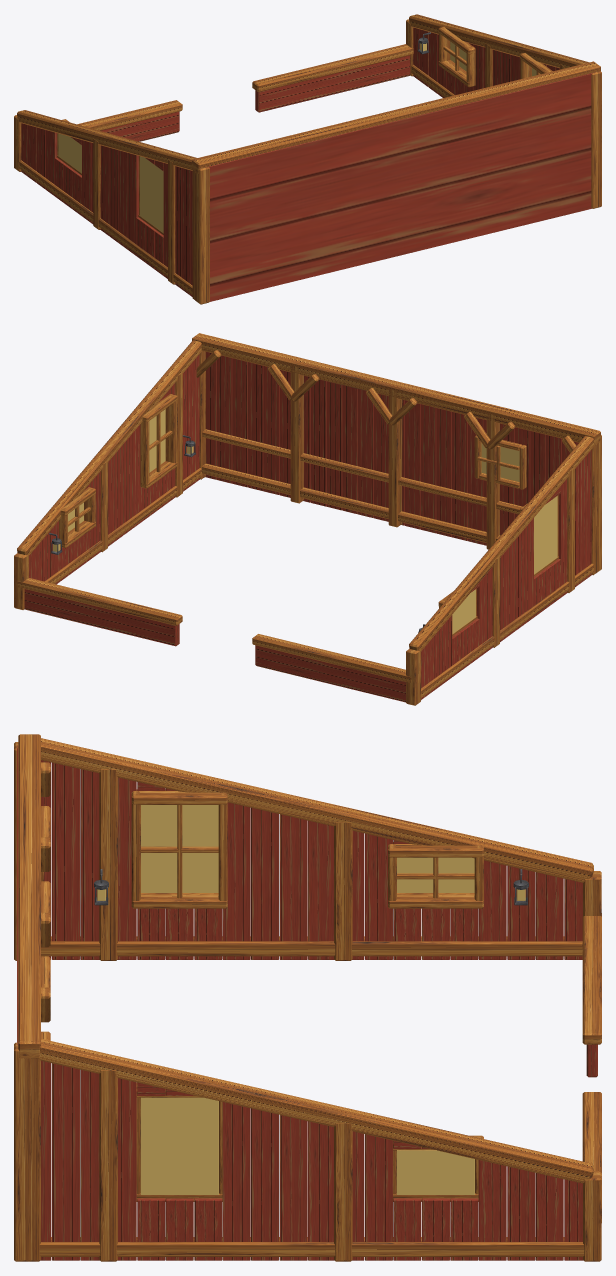
File: CoopCozy_Architecture.fbx
3 views of the same model, one above another, from view 1: azimuth 30°, elevation 25°; view 2: azimuth 150°, elevation 25°; view 3: azimuth 270°, elevation 25° (orthographic). The views are drawn at different scales.
Parts seen in each view (by area): view 1: CoopCozy_Architecture; view 2: CoopCozy_Architecture; view 3: CoopCozy_Architecture.
Boxes of the visible parts, x1,y1,x2,y2 form: CoopCozy_Architecture: [14, 14, 601, 304]; CoopCozy_Architecture: [14, 333, 601, 705]; CoopCozy_Architecture: [14, 734, 601, 1261].
Size of the model in its own units: 10.27 by 3.42 by 8.27.
